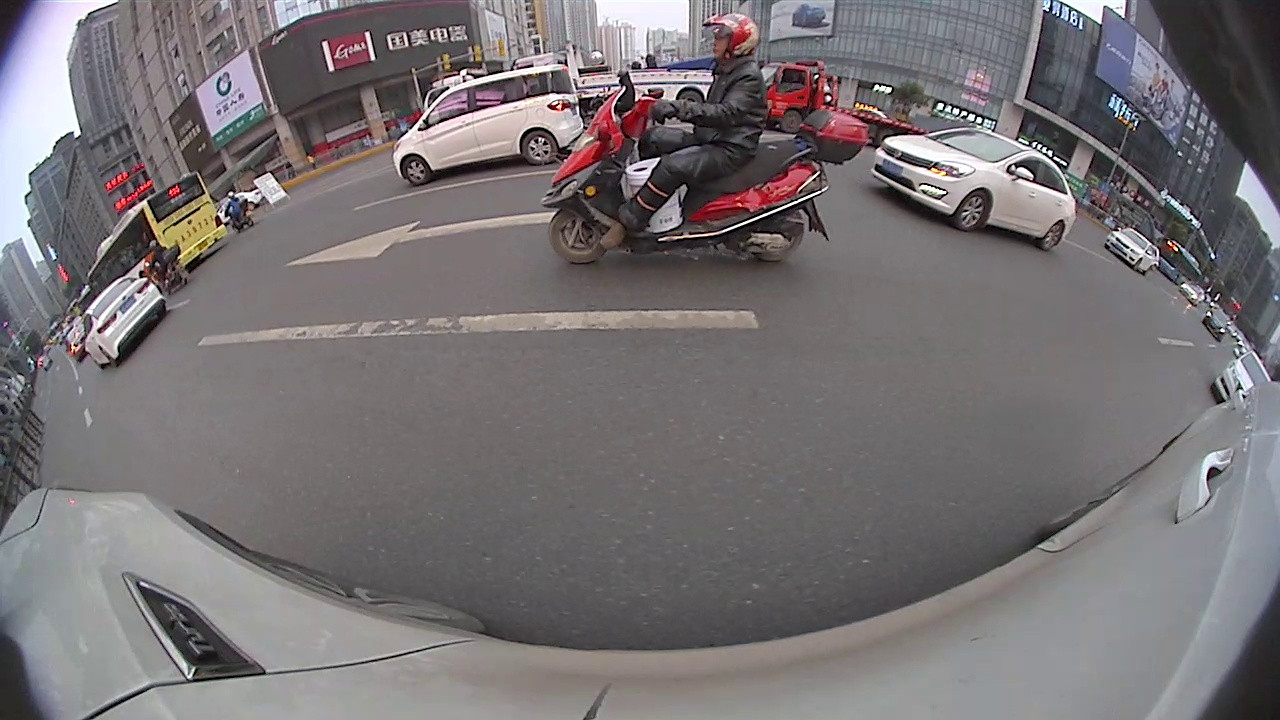bus: (82, 170, 226, 304)
car: (872, 129, 1081, 253), (393, 64, 586, 191), (79, 272, 167, 371), (1216, 348, 1278, 411), (1106, 227, 1162, 274)
front: (548, 206, 609, 266), (953, 190, 990, 232), (402, 154, 431, 188)
rear: (755, 226, 803, 265), (522, 131, 558, 168), (1039, 221, 1066, 253)
rider: (541, 13, 874, 269), (141, 239, 187, 296)
truck: (749, 59, 932, 156)
